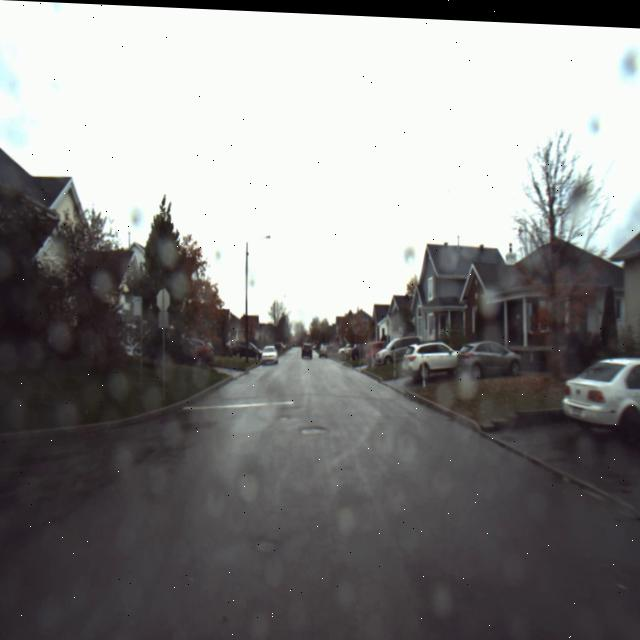car: (259, 334, 279, 365)
